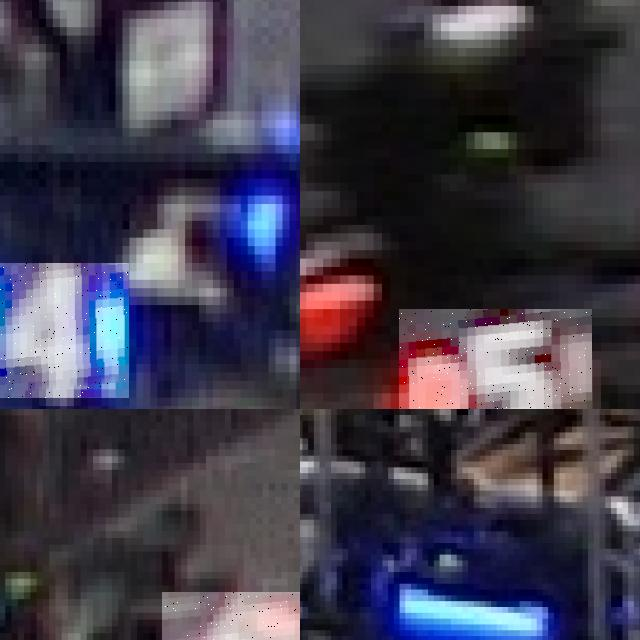B4: (0, 263, 129, 397)
R1: (162, 592, 300, 640)
R5: (398, 309, 592, 409), (300, 191, 399, 325)
